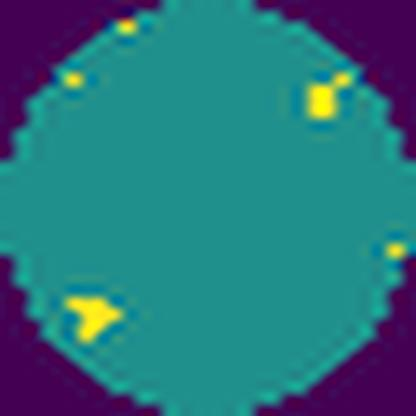Loc: (62, 288, 122, 348), (300, 65, 355, 120)
